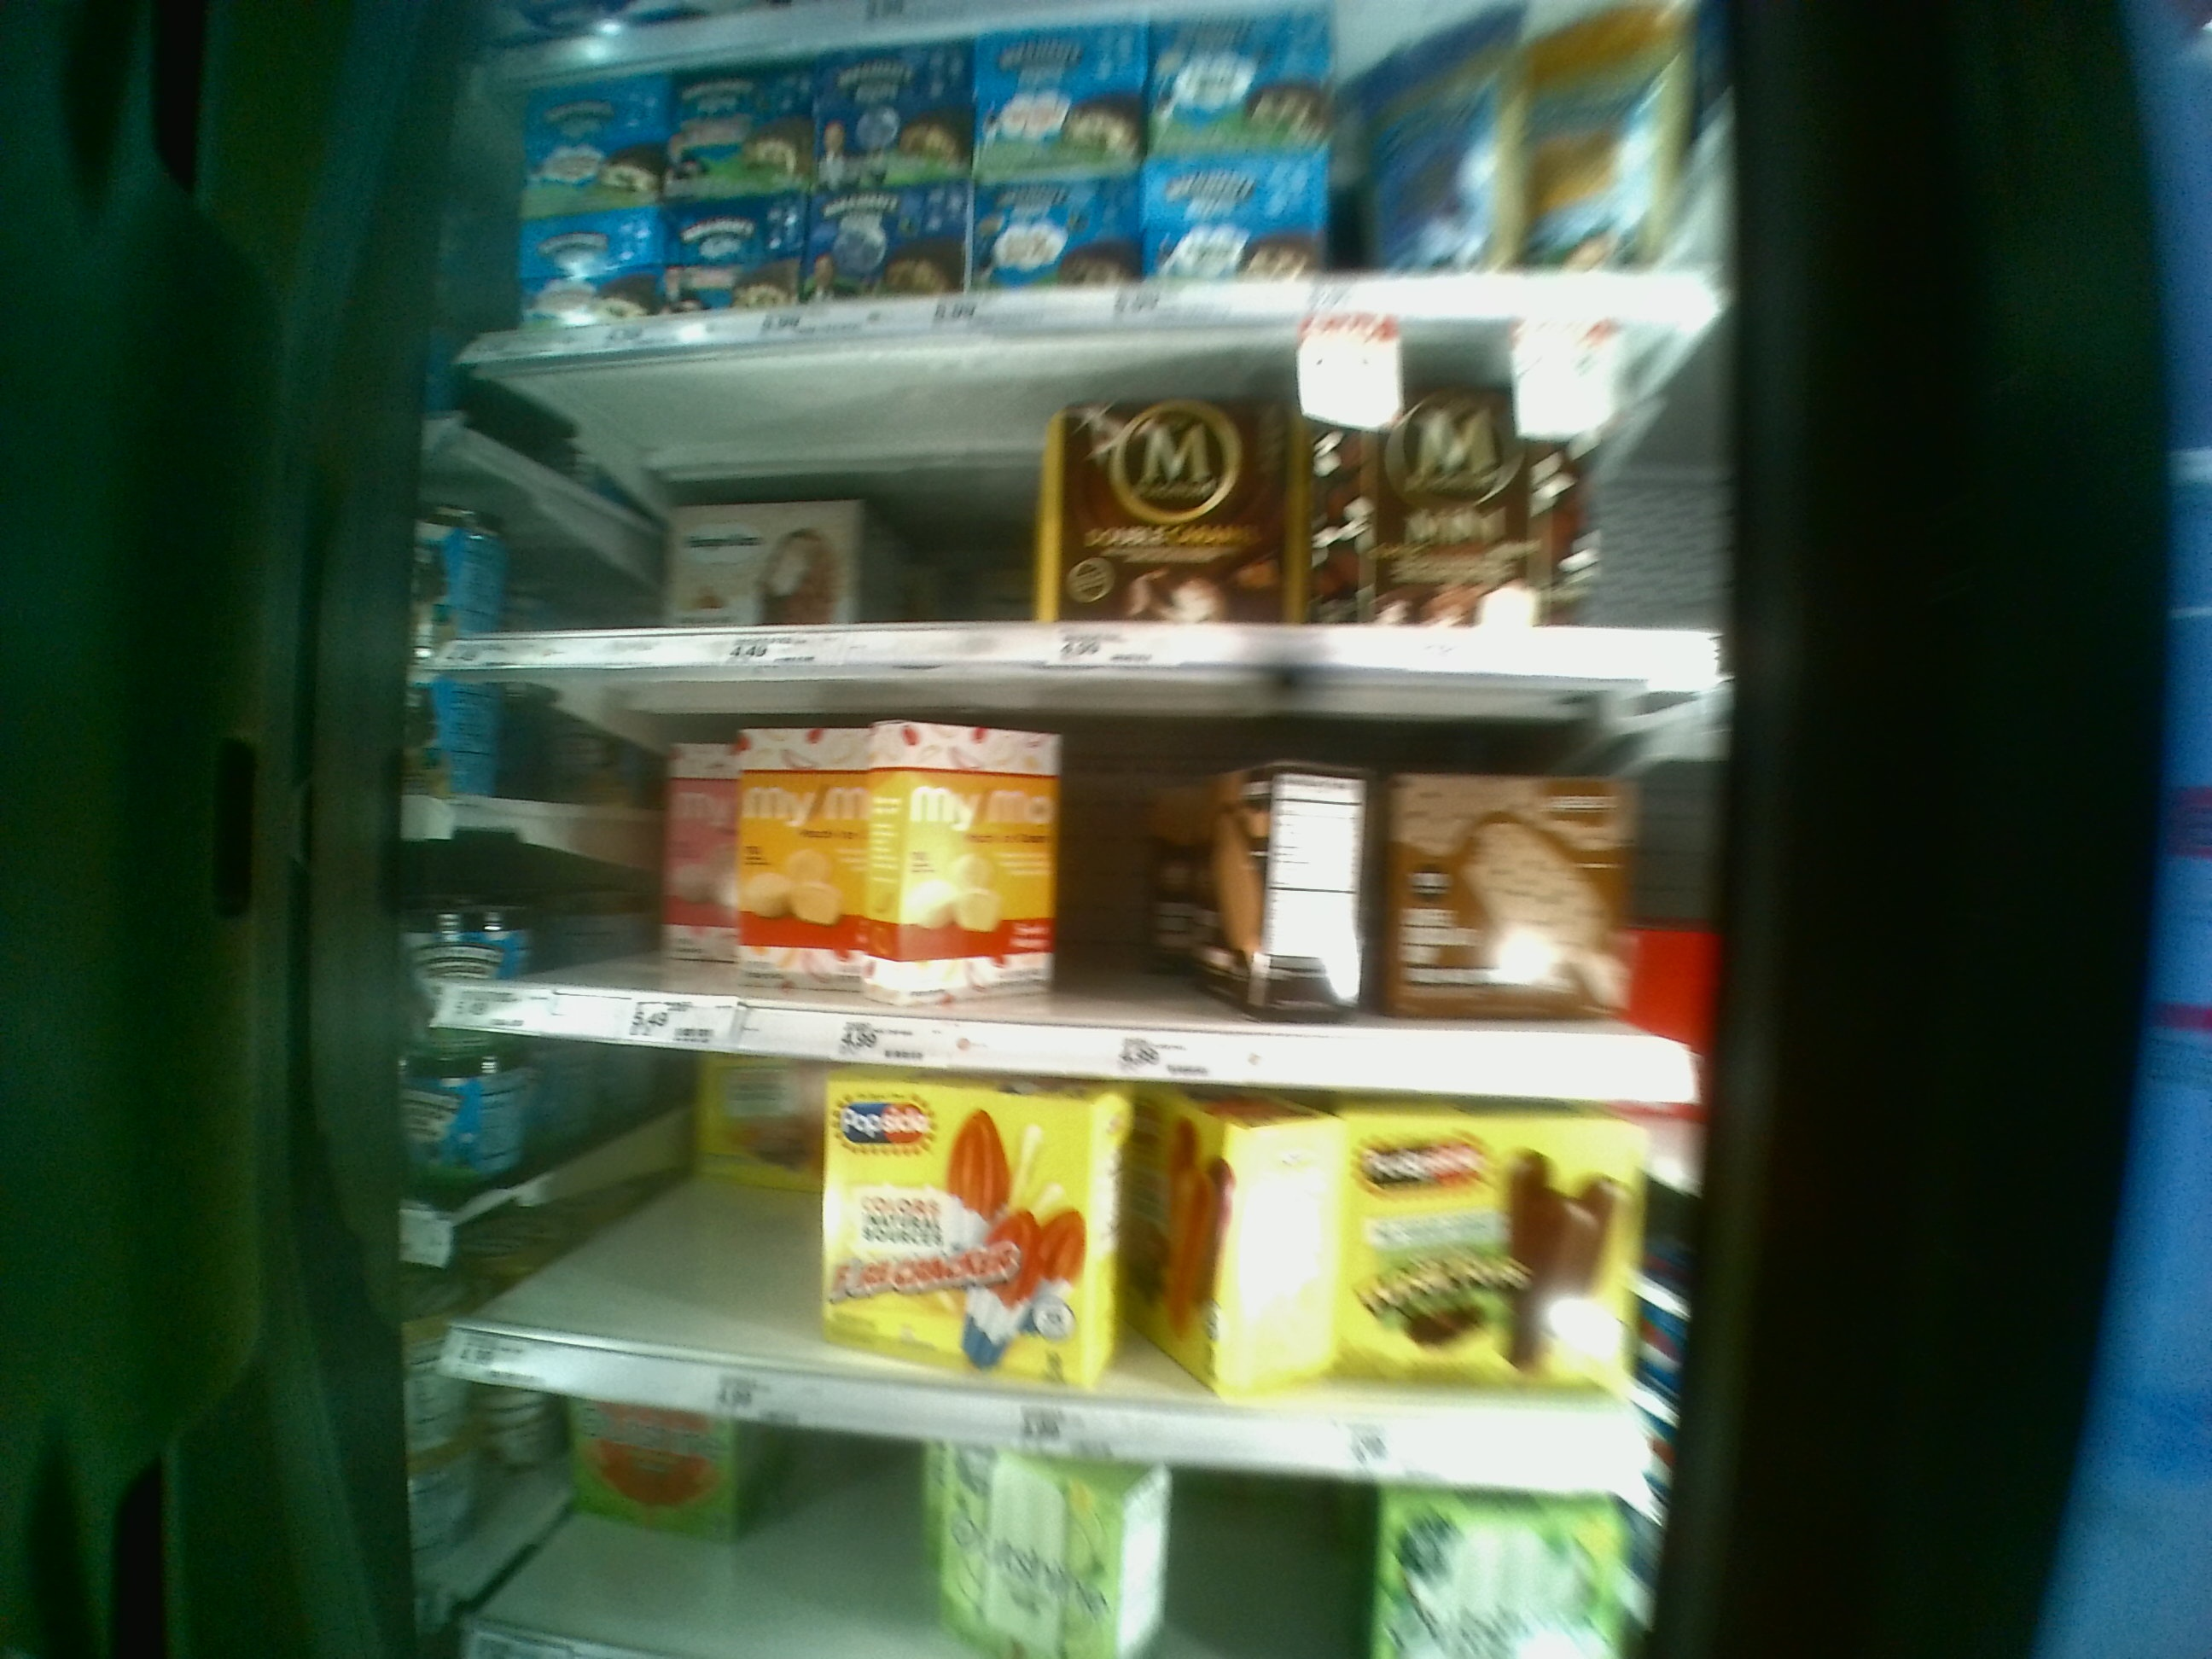ice-cream-shelf: (421, 671, 1707, 1068)
